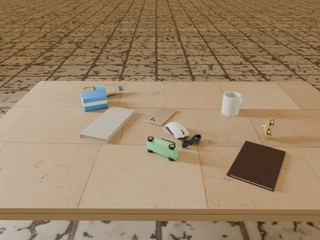book: (227, 141, 286, 191), (79, 106, 135, 143)
bottle: (84, 85, 123, 96)
box: (81, 89, 108, 112)
cup: (222, 92, 243, 116)
mouse: (164, 122, 189, 139)
phone: (146, 107, 177, 126)
toy_car: (147, 136, 178, 161), (262, 118, 274, 139)
